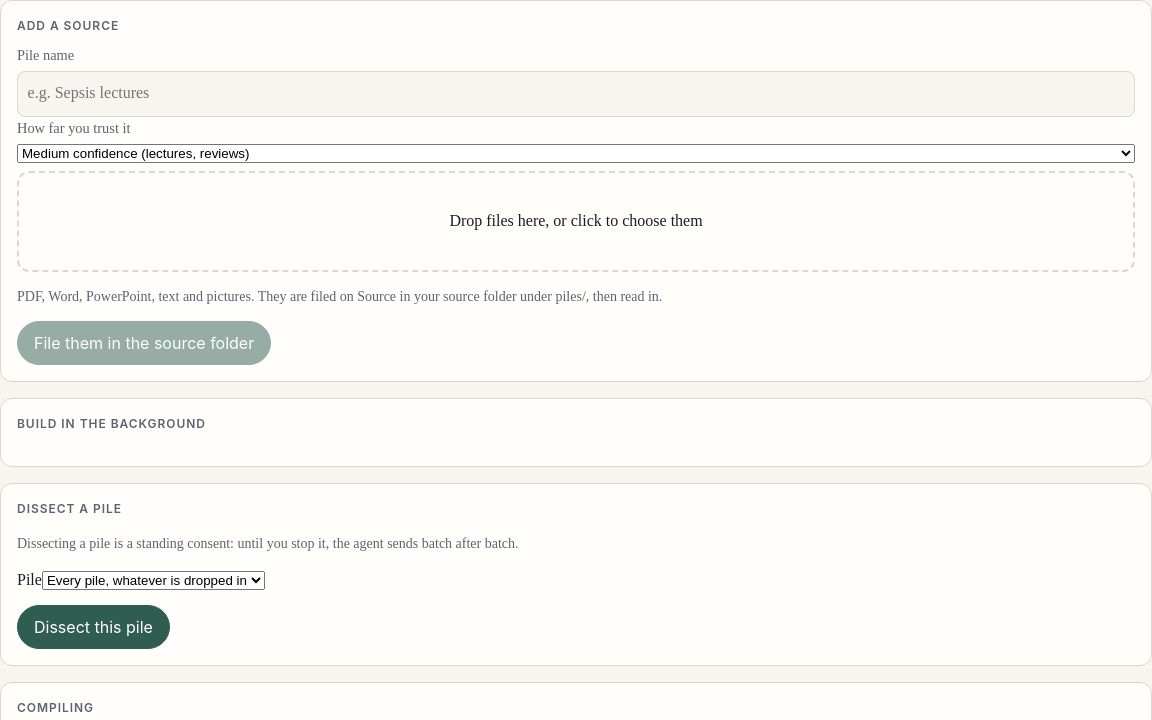
Test case: the dissection agent card › offers a pile, starts with the disclosure shown, and reports progress
Expected: the text "standing consent" is shown, 17,536 -> 519,550
Click the button "Dissect this pile". click: (93, 627)
box: 17,605 -> 170,649
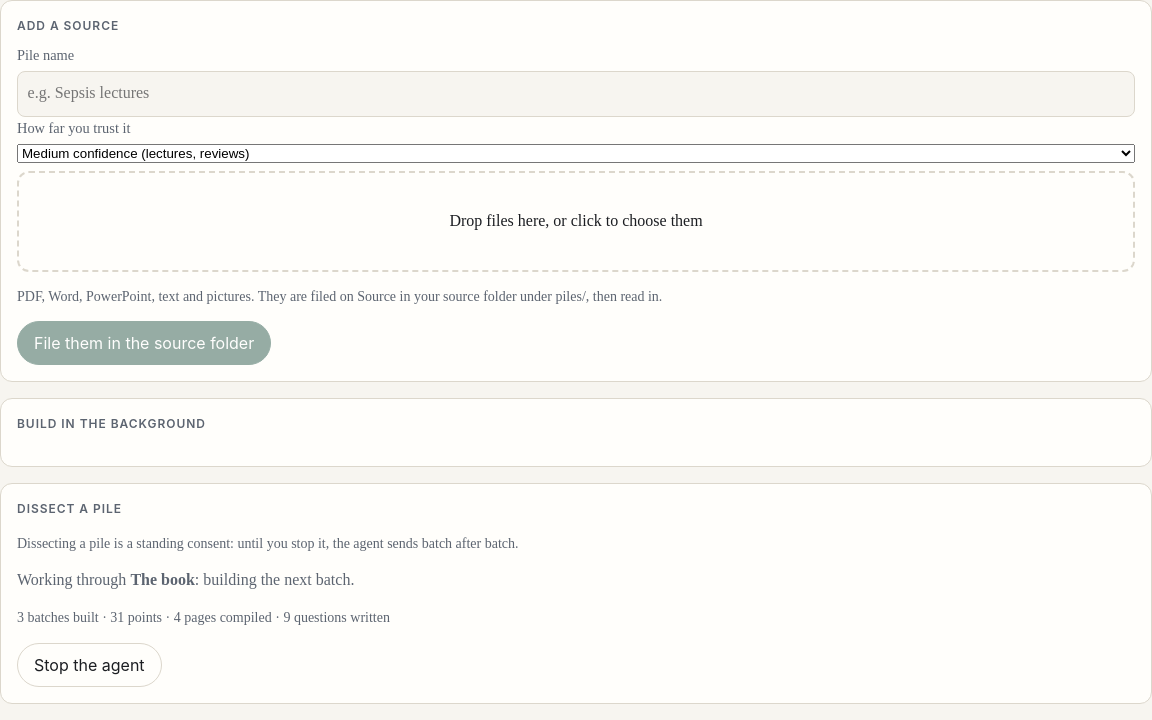
Expected: the text "Working through The book: building the next batch." is shown, 17,571 -> 354,588
Expected: the text "3 batches built · 31 points · 4 pages compiled · 9 questions written" is shown, 17,610 -> 390,625
Expected: the button "Stop the agent" is shown, 17,643 -> 162,687
